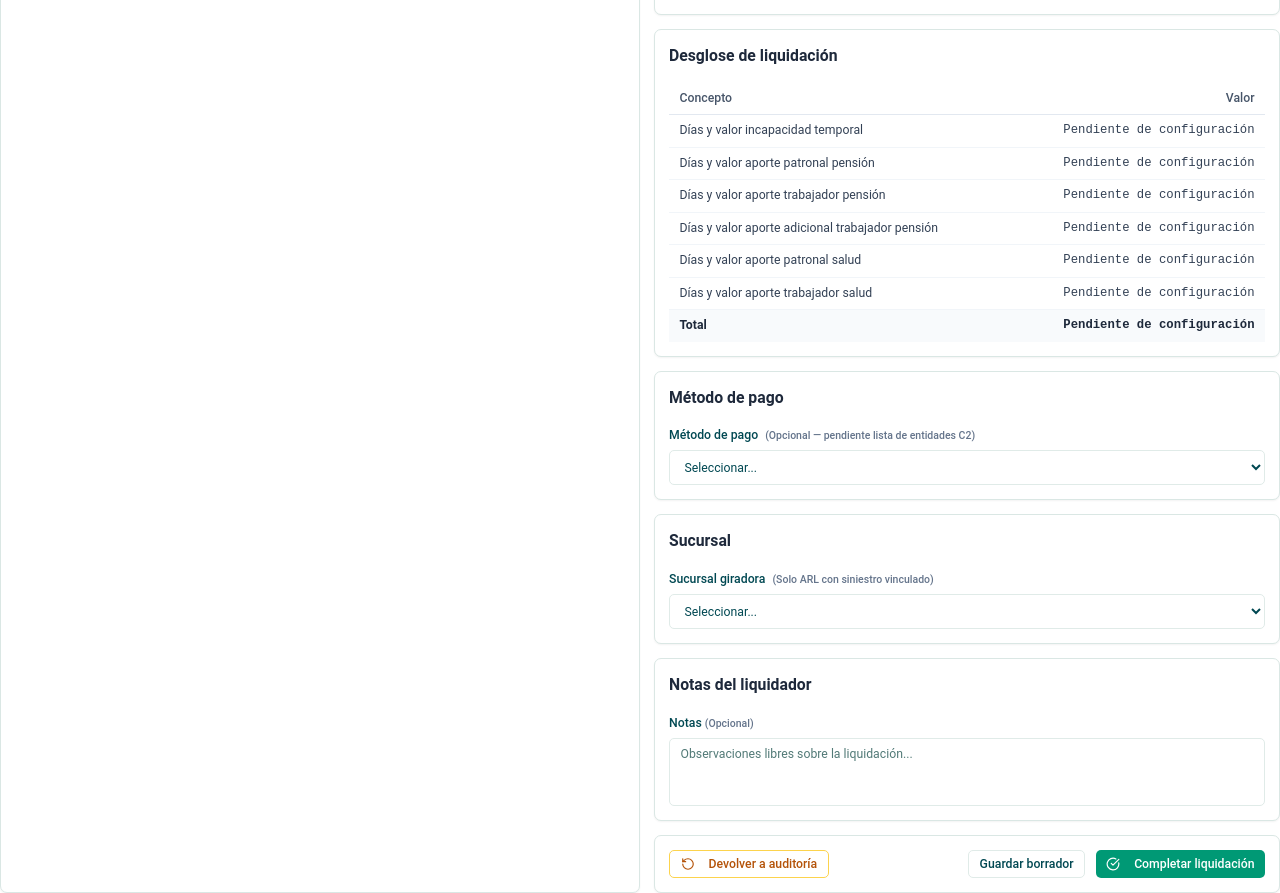
Test: LiquidacionPage › shows observacion required error in devolucion dialog when empty
(page scrolled)
// Open dialog
Click the button with test id "devolver-auditoria-btn" at (749, 864), box [669,850,829,878]
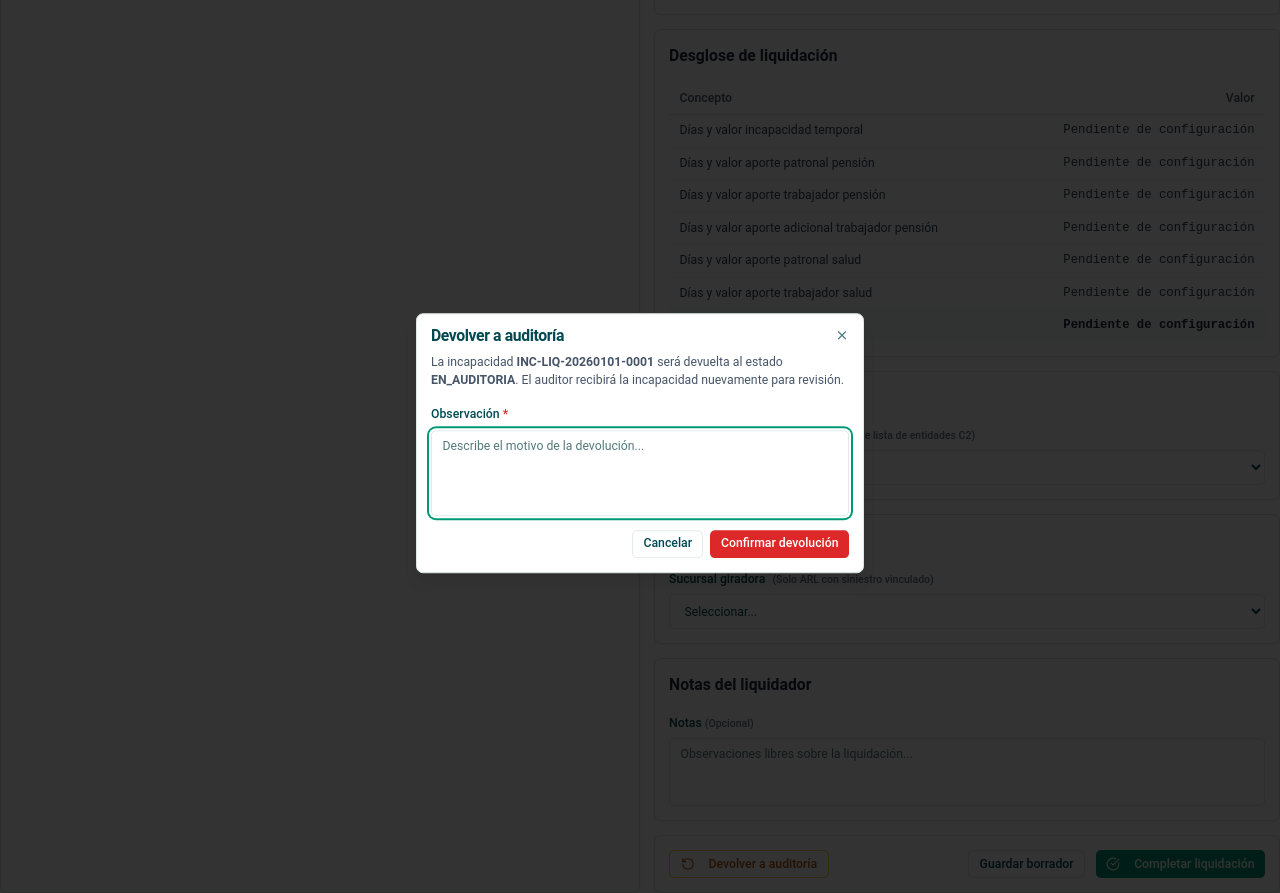
Expected: the button with test id "confirmar-devolucion-btn" is shown
// Submit without filling observacion
Click the button with test id "confirmar-devolucion-btn" at (780, 544), box [710,530,849,558]
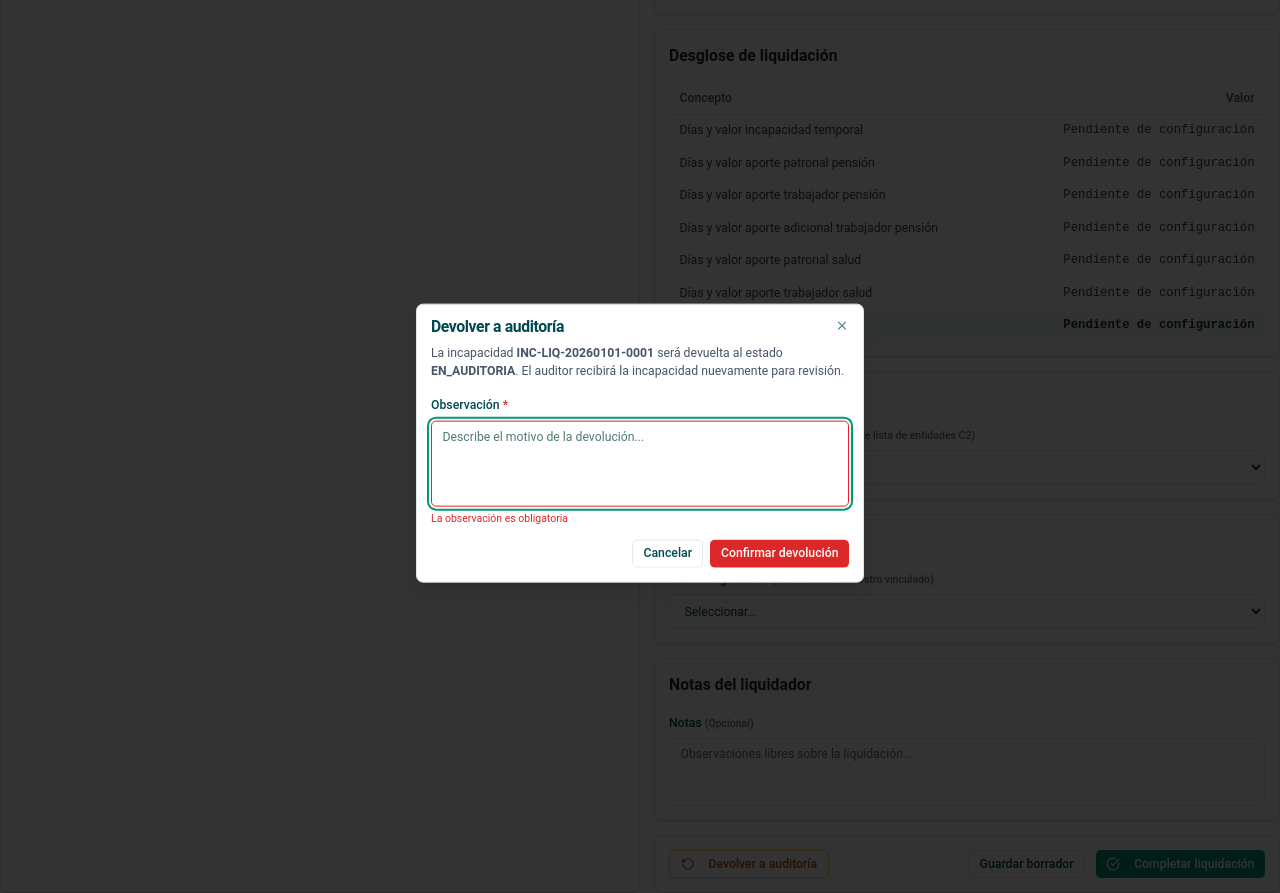
Expected: the text "La observación es obligatoria" is shown, [431,511,568,524]
